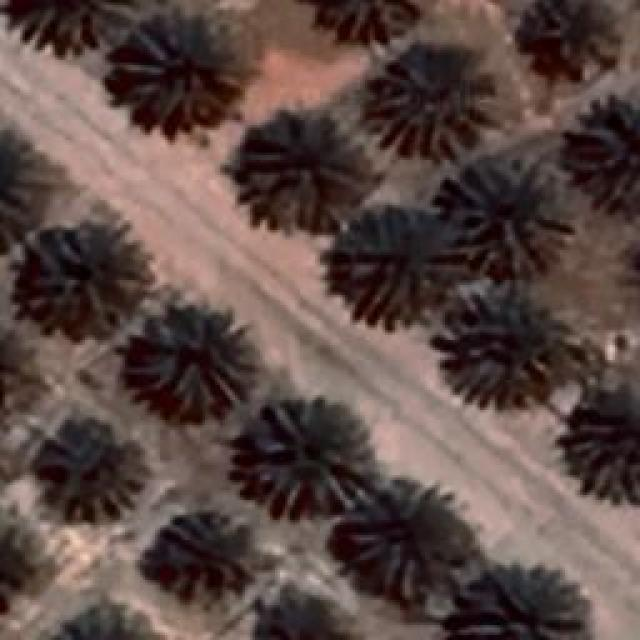PalmTree: (232, 105, 372, 230), (360, 40, 502, 160), (340, 478, 475, 600), (447, 280, 575, 408), (330, 202, 460, 322), (242, 400, 370, 518), (442, 160, 570, 278), (125, 305, 255, 420), (32, 414, 150, 528), (112, 18, 238, 123), (20, 228, 138, 330), (145, 508, 260, 610), (562, 380, 636, 498), (518, 0, 618, 80), (570, 90, 635, 210), (0, 0, 131, 59), (458, 584, 590, 638), (0, 126, 55, 253), (302, 0, 433, 48), (244, 592, 375, 640), (0, 502, 41, 622), (0, 318, 37, 438), (45, 602, 160, 636)
